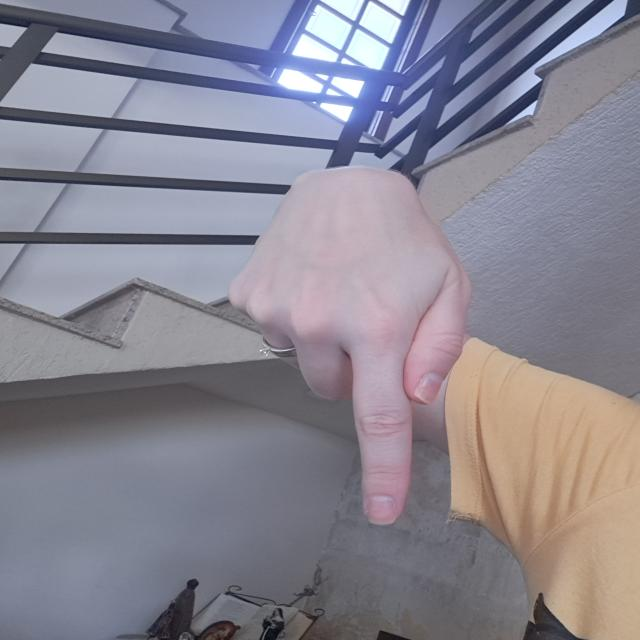Q: (243, 153, 473, 537)
